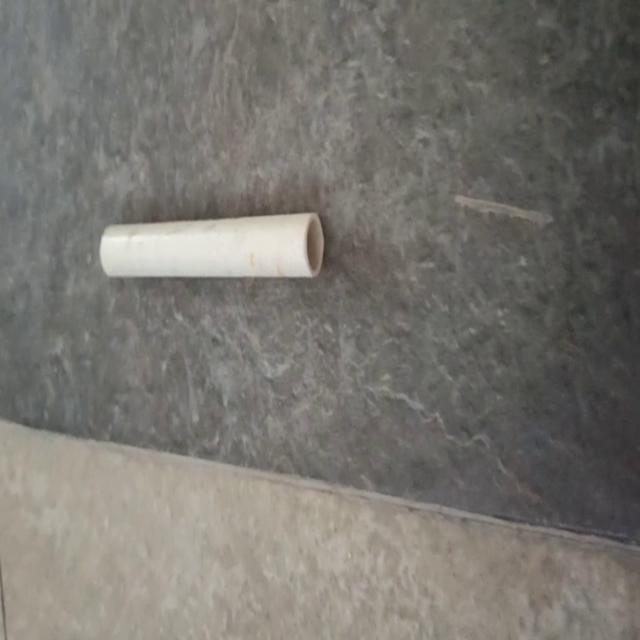Cube: (99, 209, 325, 281)
